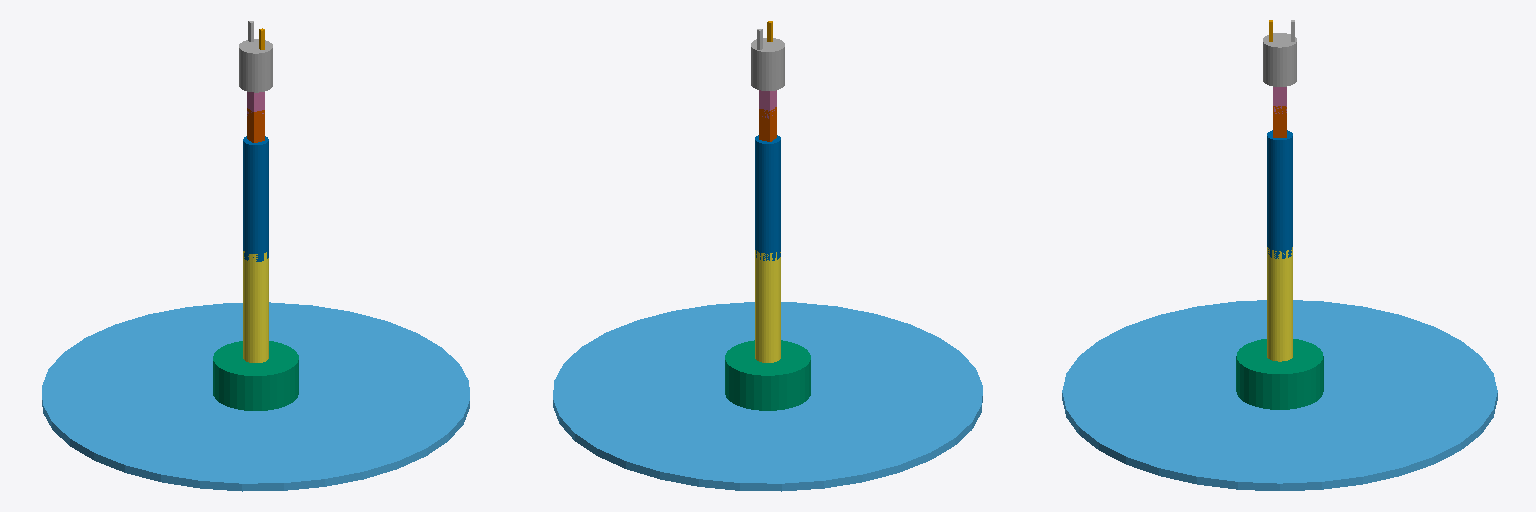
The robot description file, URDF, robot "test2":
<?xml version="1.0" ?>
<robot name="test2">


    <gazebo>
      <plugin name="gazebo_ros_control" filename="libgazebo_ros_control.so">
        <robotNamespace>/test2</robotNamespace>
      </plugin>
    </gazebo>

    <!--link name="world"/>

  <joint name="fixed" type="fixed">
    <parent link="world"/>
    <child link="link1"/>
  </joint>

  <link name="link1">
    <collision>
      <origin rpy="0 0 0" xyz="1 1 1"/>
      <geometry>
        <box size="2 2 2"/>
      </geometry>
    </collision>
    <visual>
      <origin rpy="0 0 0" xyz="1 1 1"/>
      <geometry>
        <box size="2 2 2"/>
      </geometry>
    </visual>
    <inertial>
      <origin xyz="0 0 1" rpy="0 0 0"/>
      <mass value="1"/>
      <inertia
        ixx="1.0" ixy="0.0" ixz="0.0"
        iyy="1.0" iyz="0.0"
        izz="1.0"/>
    </inertial>

  </link-->
  <!--material name="yellow">
    <color rgba="0.0 0.8 0.0 1.0"/>
  </material>
  <material name="red">
    <color rgba="0.0 0.8 0.0 1.0"/>
  </material>
  <material name="black">
    <color rgba="0.0 0.0 0.0 1.0"/>
  </material>
  <material name="blue">
    <color rgba="0.0 0.0 0.0 1.0"/>
  </material>
 <material name="white">
    <color rgba="0.0 0.0 0.0 1.0"/>
  </material-->
    <link name="world" />
    <!-- BASE LINK -->
    <link name="base_link">
        <visual>
            <origin rpy="0 0 0" xyz="0 0 0.01" />
            <geometry>
                <cylinder length="0.02" radius="0.5" />
            </geometry>
        </visual>
        <collision>
            <origin rpy="0 0 0" xyz="0 0 0.01" />
            <geometry>
                <cylinder length="0.02" radius="0.5" />
            </geometry>
        </collision>
        
        <inertial>

            <mass value="0.1" />
            <inertia ixx="0.03" iyy="0.03" izz="0.03" ixy="0.0" ixz="0.0" iyz="0.0" />
        </inertial>

    </link>
    <gazebo reference="base_link">
        <material>Gazebo/White</material>
    <turnGravityOff>false</turnGravityOff>
    </gazebo>
    <!-- joint -->
    <joint name="fixed" type="fixed">
        <parent link="world" />
        <child link="base_link" />
    </joint>


    
    <!-- LINK 1 -->
    <link name="link1">
        <visual>
            <origin rpy="0 0 0" xyz="0 0 0.05" />
            <!-- linknte paathi distance -->
            <geometry>
                <cylinder length="0.10" radius="0.10" />
            </geometry>
        </visual>
        <collision>
            <origin rpy="0 0 0" xyz="0 0 0.05" />
            <geometry>
                <cylinder length="0.10" radius="0.10" />
            </geometry>
        </collision>
        
    <inertial>
            <mass value="0.1" />
            <inertia ixx="0.03" iyy="0.03" izz="0.03" ixy="0.0" ixz="0.0" iyz="0.0" />
        </inertial>

    </link>
    <gazebo reference="link1">
        <material>Gazebo/Silver</material>
    <turnGravityOff>false</turnGravityOff>
    </gazebo>
    <!-- JOINT 1 -->
    <joint name="joint1" type="continuous">
        <origin rpy="0 0 0" xyz="0 0 0.01" />
        <!--parent linknte distance -->
        <parent link="base_link" />
        <child link="link1" />
        <axis xyz="0 0 1" />
    </joint>
    
    <!-- LINK 2 -->
    <link name="link2">
        <visual>
            <origin rpy="0 0 0" xyz="0 0 0.15" />
            <geometry>
                <cylinder length="0.30" radius="0.03" />
            </geometry>
           
        </visual>
        <collision>
            <origin rpy="0 0 0" xyz="0 0 0.15" />
            <geometry>
                <cylinder length="0.30" radius="0.03" />
            </geometry>
        </collision>
        
    <inertial>
            <mass value="0.1" />
            <inertia ixx="0.03" iyy="0.03" izz="0.03" ixy="0.0" ixz="0.0" iyz="0.0" />
        </inertial>

    </link>
    <gazebo reference="link2">
        <material>Gazebo/Blue</material>
    <turnGravityOff>false</turnGravityOff>
    </gazebo>


    <!-- JOINT 2 -->
    <joint name="joint2" type="revolute">
        <origin rpy="0 0 0" xyz="0 0 0.08" />
        <parent link="link1" />
        <child link="link2" />
        <axis xyz="0 1 0" />
        <limit lower="-1.57" upper="1.57" effort="100" velocity="1" />
        <dynamics damping="0.01" friction="0.01" />
    </joint>
    <!-- LINK 3 -->
    <link name="link3">
        <visual>
            <origin rpy="0 0 0" xyz="0 0 0.15" />
            <geometry>
                <cylinder length="0.30" radius="0.03" />
            </geometry>
        </visual>
        <collision>
            <origin rpy="0 0 0" xyz="0 0 0.15" />
            <geometry>
                <cylinder length="0.30" radius="0.03" />
            </geometry>
        </collision>
        
    <inertial>
            <mass value="0.1" />
            <inertia ixx="0.03" iyy="0.03" izz="0.03" ixy="0.0" ixz="0.0" iyz="0.0" />
        </inertial>

    </link>
    <gazebo reference="link3">
        <material>Gazebo/Black</material>
    <turnGravityOff>false</turnGravityOff>
    </gazebo>
    <!-- JOINT 3 -->
    <joint name="joint3" type="revolute">
        <origin rpy="0 0 0" xyz="0 0 0.28" />
        <parent link="link2" />
        <child link="link3" />
        <axis xyz="0 1 0" />
        <limit lower="-2.57" upper="2.57" effort="100" velocity="1" />
        <dynamics damping="0.01" friction="0.01" />
    </joint>
    
    <!-- LINK 4 -->
    <link name="link4">
        <visual>
            <origin rpy="0 0 0" xyz="0 0 0.05" />
            <geometry>
                <box size="0.03 0.03 0.1" />
            </geometry>
        </visual>
        <collision>
            <origin rpy="0 0 0" xyz="0 0 0.05" />
            <geometry>
                <box size="0.03 0.03 0.1" />
            </geometry>
        </collision>
        
       <inertial>
            <mass value="0.1" />
            <inertia ixx="0.03" iyy="0.03" izz="0.03" ixy="0.0" ixz="0.0" iyz="0.0" />
        </inertial>

    </link>
    <gazebo reference="link4">
        <material>Gazebo/Blue</material>
    <turnGravityOff>false</turnGravityOff>
    </gazebo>

    <!-- JOINT 4 -->
    <joint name="joint4" type="revolute">
        <origin rpy="0 0 0" xyz="0 0 0.28" />
        <parent link="link3" />
        <child link="link4" />
        <axis xyz="0 0 1" />
        <limit lower="-3.14" upper="3.14" effort="100" velocity="1" />
        <dynamics damping="0.01" friction="0.01" />
    </joint>

    <!-- LINK 5 -->
    <link name="link5">
        <visual>
            <origin rpy="0 0 0" xyz="0 0 0.05" />
            <geometry>
                <box size="0.03 0.03 0.1" />
            </geometry>
        </visual>
        <collision>
            <origin rpy="0 0 0" xyz="0 0 0.05" />
            <geometry>
                <box size="0.03 0.03 0.1" />
            </geometry>
        </collision>
        
    <inertial>
            <mass value="0.1" />
            <inertia ixx="0.03" iyy="0.03" izz="0.03" ixy="0.0" ixz="0.0" iyz="0.0" />
        </inertial>

    </link>
    <gazebo reference="link5">
        <material>Gazebo/Black</material>
    <turnGravityOff>false</turnGravityOff>
    </gazebo>
    <!-- JOINT 5 -->
    <joint name="joint5" type="revolute">
        <origin rpy="0 0 0" xyz="0 0 0.08" />
        <parent link="link4" />
        <child link="link5" />
        <axis xyz="0 1 0" />
        <limit lower="-2.57" upper="2.57" effort="100" velocity="1" />
        <dynamics damping="0.01" friction="0.01" />
    </joint>
    

    <!-- LINK 6 -->
    <link name="link6">
        <visual>
            <origin rpy="0 0 0" xyz="0 0 0.05" />
            <geometry>
                <cylinder length="0.10" radius="0.04" />
            </geometry>
        </visual>
        <collision>
            <origin rpy="0 0 0" xyz="0 0 0.05" />
            <geometry>
                <cylinder length="0.10" radius="0.04" />
            </geometry>
        </collision>
        
        <inertial>
            <mass value="0.1" />
            <inertia ixx="0.03" iyy="0.03" izz="0.03" ixy="0.0" ixz="0.0" iyz="0.0" />
        </inertial>

    </link>
    <gazebo reference="link6">
        <material>Gazebo/Blue</material>
    <turnGravityOff>false</turnGravityOff>
    </gazebo>

    <!-- JOINT 6 -->
    <joint name="joint6" type="revolute">
        <origin rpy="0 0 0" xyz="0 0 0.08" />
        <parent link="link5" />
        <child link="link6" />
        <axis xyz="1 0 0" />
        <limit lower="-2.57" upper="2.57" effort="100" velocity="1" />
        <dynamics damping="0.01" friction="0.01" />
    </joint>

    <link name="finger1">
        <visual>
            <origin rpy="0 0 0" xyz="0.005 0.005 0.025 " />
            <geometry>
                <box size="0.01 0.01 .05" />
            </geometry>
        </visual>
        <collision>
            <origin rpy="0 0 0" xyz="0.005 0.005 0.025" />
            <geometry>
                <box size="0.01 0.01 .05" />
            </geometry>
        </collision>
        
        <inertial>
            <mass value="0.1" />
            <inertia ixx="0.03" iyy="0.03" izz="0.03" ixy="0.0" ixz="0.0" iyz="0.0" />
        </inertial>

    </link>

    <gazebo reference="finger1">
        <material>Gazebo/White</material>
        <turnGravityOff>false</turnGravityOff>
    </gazebo>
    <joint name="f_joint1" type="prismatic">
        <axis xyz="0 1 0" />
        <limit effort="20" lower="0.0" upper="0.020" velocity="0.2" />
        <parent link="link6" />
        <child link="finger1" />
        <origin rpy="0 0 0" xyz="0 -0.025 0.1" />
    </joint>

    <link name="finger2">
        <visual>
            <geometry>
                <box size="0.01 0.01 .05" />
            </geometry>
            <material name="silver">
                <color rgba="0.75 0.75 0.75 1" />
            </material>
            <origin rpy="0 0 0" xyz="0.005 0.005 0.025 " />
        </visual>
        <collision>
            <geometry>
                <box size="0.01 0.01 .05" />
            </geometry>
            <origin rpy="0 0 0" xyz="0.005 0.005 0.025 " />
        </collision>
        
    <inertial>
            <mass value="0.1" />
            <inertia ixx="0.03" iyy="0.03" izz="0.03" ixy="0.0" ixz="0.0" iyz="0.0" />
        </inertial>

    </link>
    <gazebo reference="finger2">
        <material>Gazebo/White</material>
    <turnGravityOff>false</turnGravityOff>
    </gazebo>
    <joint name="f_joint2" type="prismatic">
        <axis xyz="0 1 0" />
        <limit effort="20" lower="-0.020" upper="0" velocity="0.2" />
        <parent link="link6" />
        <child link="finger2" />
        <origin rpy="0 0 0" xyz="0 0.025 0.1" />
    </joint>

    
    <transmission name="trans_joint1">
        <type>transmission_interface/SimpleTransmission</type>
        <joint name="joint1">
            <hardwareInterface>hardware_interface/PositionJointInterface</hardwareInterface>
        </joint>
        <actuator name="joint1_motor">
            <hardwareInterface>hardware_interface/PositionJointInterface</hardwareInterface>
            <mechanicalReduction>1</mechanicalReduction>
        </actuator>
    </transmission>
    <transmission name="trans_joint2">
        <type>transmission_interface/SimpleTransmission</type>
        <joint name="joint2">
            <hardwareInterface>hardware_interface/PositionJointInterface</hardwareInterface>
        </joint>
        <actuator name="joint2_motor">
            <hardwareInterface>hardware_interface/PositionJointInterface</hardwareInterface>
            <mechanicalReduction>1</mechanicalReduction>
        </actuator>
    </transmission>
    <transmission name="trans_joint3">
        <type>transmission_interface/SimpleTransmission</type>
        <joint name="joint3">
            <hardwareInterface>hardware_interface/PositionJointInterface</hardwareInterface>
        </joint>
        <actuator name="joint3_motor">
            <hardwareInterface>hardware_interface/PositionJointInterface</hardwareInterface>
            <mechanicalReduction>1</mechanicalReduction>
        </actuator>
    </transmission>
    <transmission name="trans_joint4">
        <type>transmission_interface/SimpleTransmission</type>
        <joint name="joint4">
            <hardwareInterface>hardware_interface/PositionJointInterface</hardwareInterface>
        </joint>
        <actuator name="joint4_motor">
            <hardwareInterface>hardware_interface/PositionJointInterface</hardwareInterface>
            <mechanicalReduction>1</mechanicalReduction>
        </actuator>
    </transmission>
    <transmission name="trans_joint5">
        <type>transmission_interface/SimpleTransmission</type>
        <joint name="joint5">
            <hardwareInterface>hardware_interface/PositionJointInterface</hardwareInterface>
        </joint>
        <actuator name="joint5_motor">
            <hardwareInterface>hardware_interface/PositionJointInterface</hardwareInterface>
            <mechanicalReduction>1</mechanicalReduction>
        </actuator>
    </transmission>
    <transmission name="trans_joint6">
        <type>transmission_interface/SimpleTransmission</type>
        <joint name="joint6">
            <hardwareInterface>hardware_interface/PositionJointInterface</hardwareInterface>
        </joint>
        <actuator name="joint6_motor">
            <hardwareInterface>hardware_interface/PositionJointInterface</hardwareInterface>
            <mechanicalReduction>1</mechanicalReduction>
        </actuator>
    </transmission>
    <transmission name="trans_f_joint1">
        <type>transmission_interface/SimpleTransmission</type>
        <joint name="f_joint1">
            <hardwareInterface>hardware_interface/EffortJointInterface</hardwareInterface>
        </joint>
        <actuator name="f_joint1_motor">
            <hardwareInterface>hardware_interface/EffortJointInterface</hardwareInterface>
            <mechanicalReduction>1</mechanicalReduction>
        </actuator>
    </transmission>
    <transmission name="trans_f_joint2">
        <type>transmission_interface/SimpleTransmission</type>
        <joint name="f_joint2">
            <hardwareInterface>hardware_interface/EffortJointInterface</hardwareInterface>
        </joint>
        <actuator name="f_joint2_motor">
            <hardwareInterface>hardware_interface/EffortJointInterface</hardwareInterface>
            <mechanicalReduction>1</mechanicalReduction>
        </actuator>
    </transmission>

    <gazebo>
        <plugin name="gazebo_grasp_fix" filename="libgazebo_grasp_fix.so">
            <arm>
              <arm_name>arm</arm_name>
              <palm_link>link6</palm_link>
              <gripper_link>finger1</gripper_link>
              <gripper_link>finger2</gripper_link>
            </arm>
            <forces_angle_tolerance>100</forces_angle_tolerance>
            <update_rate>4</update_rate>
            <grip_count_threshold>4</grip_count_threshold>
            <max_grip_count>8</max_grip_count>
            <release_tolerance>0.005</release_tolerance>
            <disable_collisions_on_attach>false</disable_collisions_on_attach>
            <contact_topic>__default_topic__</contact_topic>
        </plugin>
    </gazebo>



</robot>

--- Facts derived from the render (not from the file) ---
3 views of the same robot in one strip: view 1: azimuth 30°, elevation 25°; view 2: azimuth 150°, elevation 25°; view 3: azimuth 270°, elevation 25° (orthographic).
Robot: test2 — 10 links, 9 joints (5 revolute, 1 continuous, 2 prismatic, 1 fixed); root link world; default pose: all joints at 0.
Links seen in each view (by area): view 1: base_link, link1, link3, link2, link6, link4; view 2: base_link, link1, link3, link2, link6, link4; view 3: base_link, link1, link3, link2, link6.
Boxes of the visible links, x1,y1,x2,y2 form: base_link: [42, 302, 469, 491]; link1: [213, 341, 298, 410]; link3: [243, 136, 268, 261]; link2: [243, 251, 268, 362]; link6: [239, 39, 272, 92]; link4: [247, 108, 264, 142]; base_link: [553, 302, 982, 491]; link1: [725, 340, 810, 410]; link3: [755, 135, 780, 260]; link2: [755, 250, 780, 362]; link6: [751, 38, 784, 90]; link4: [759, 107, 776, 141]; base_link: [1062, 300, 1497, 490]; link1: [1236, 339, 1323, 409]; link3: [1267, 130, 1292, 258]; link2: [1267, 247, 1292, 361]; link6: [1263, 33, 1296, 86].
Bounding box of the posed robot: 1 × 1 × 0.96 m (x, y, z).
Geometry: primitives only (box / cylinder / sphere), no mesh files.